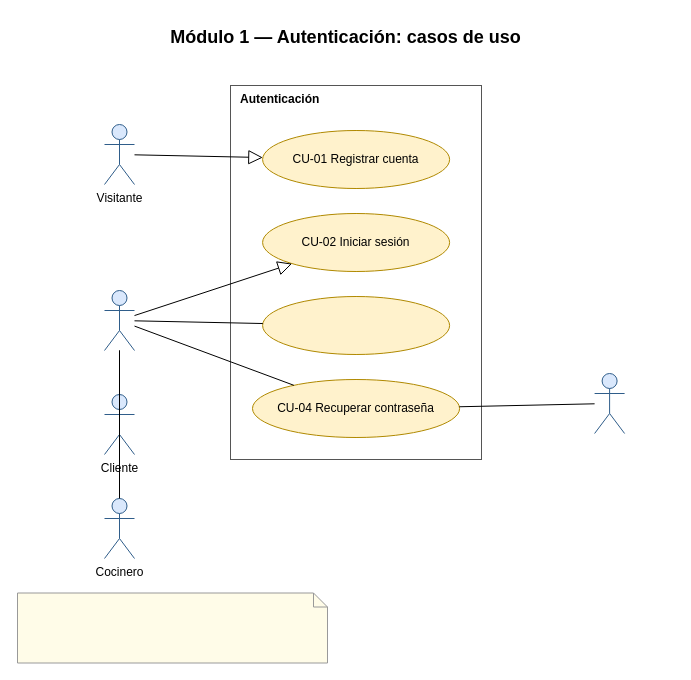
Some shapes in this 691 by 680 pixel diagram are drawn without their labels. The shapes that lost their labels are listed below. From the top down, each one's centre as x and y in pixels, then its label:
At point (119, 320): "Usuario".
At point (356, 325): "CU-03 Cerrar sesión".
At point (609, 403): "Servicio de correo «sistema externo»".
At point (172, 627): "Toda cuenta nueva es CLIENTE. El rol COCINERO se asigna en la base.".
